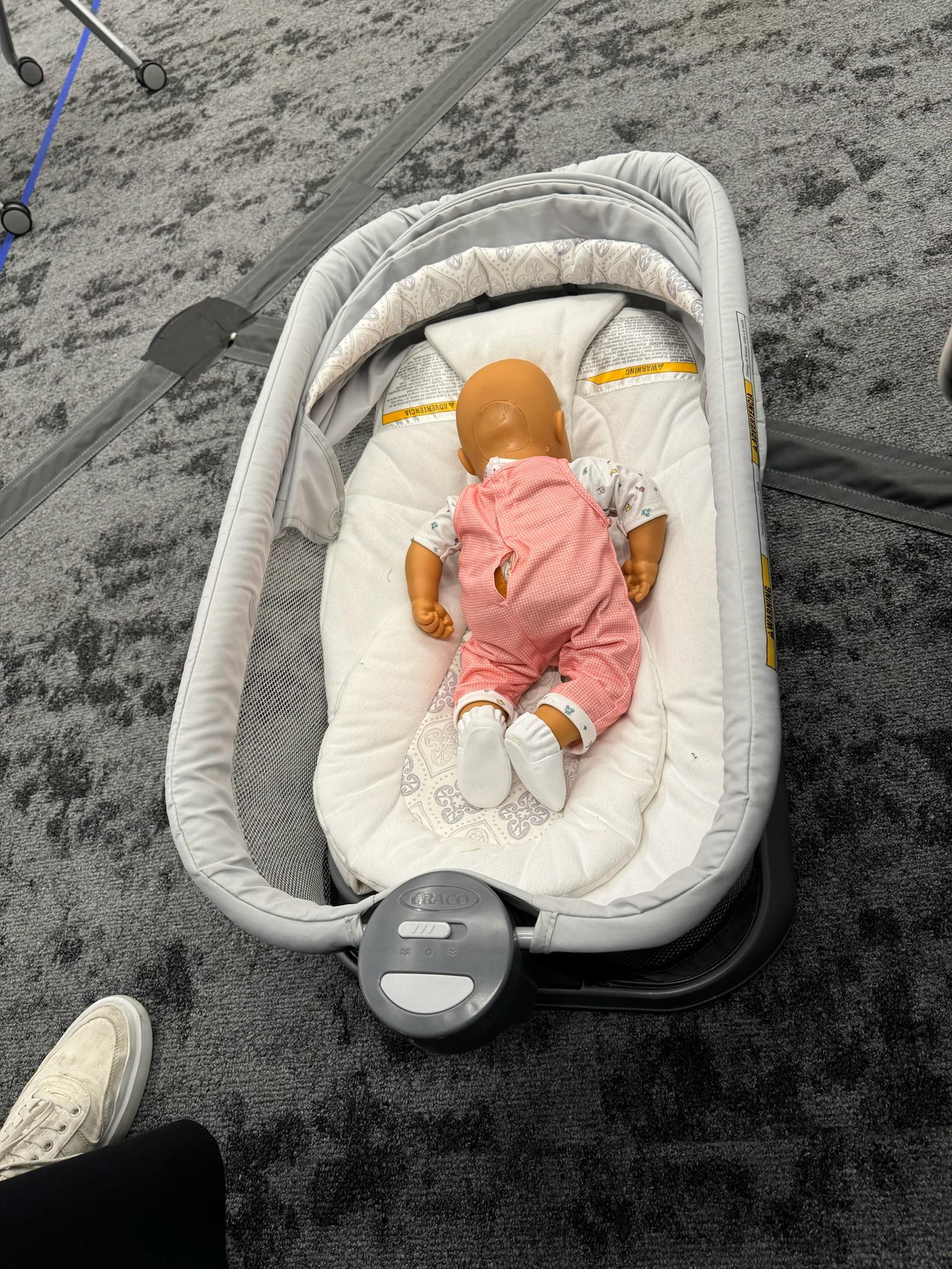baby: (401, 351, 674, 816)
